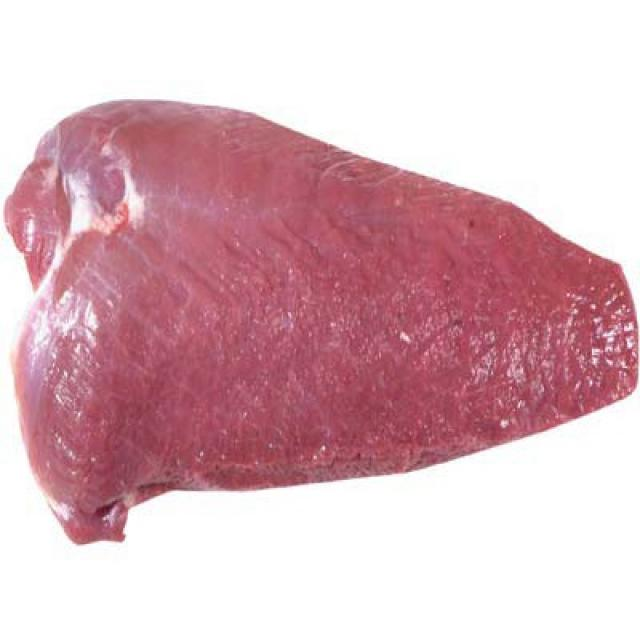beef: (12, 81, 632, 567)
